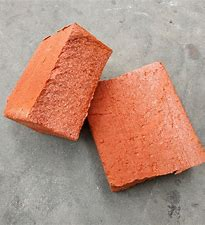brick: (85, 59, 205, 195), (4, 22, 114, 142)
